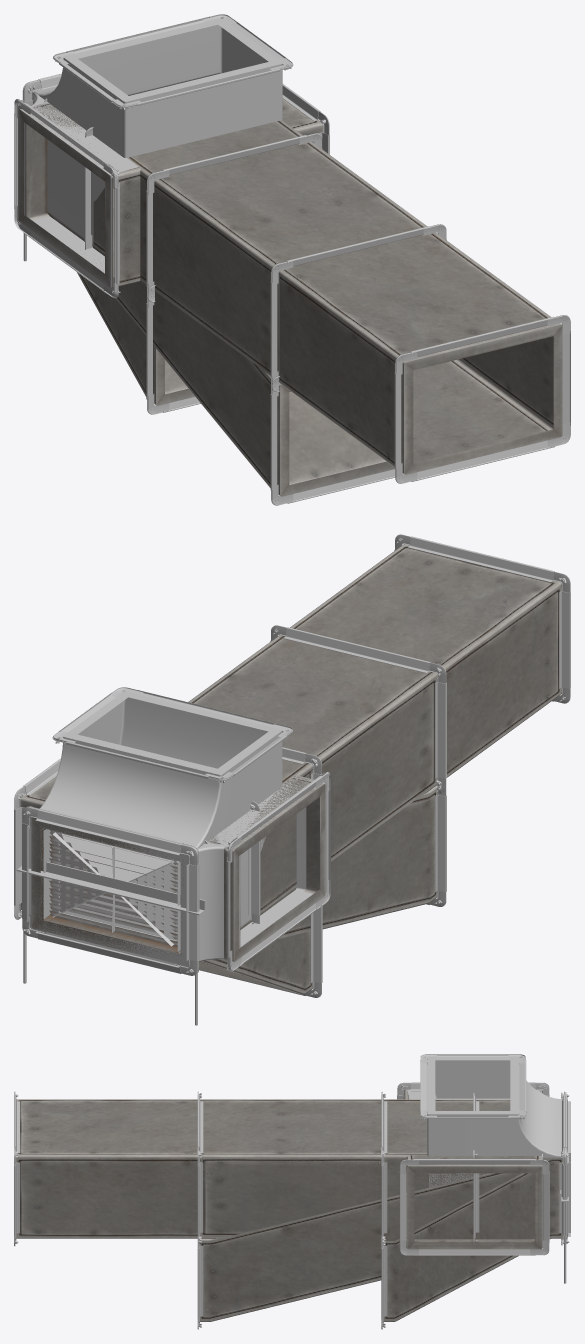
The model's file is modular_airduct_rectangular_01.fbx.
3 views of the same model, one above another, from view 1: azimuth 30°, elevation 25°; view 2: azimuth 150°, elevation 25°; view 3: azimuth 270°, elevation 25° (orthographic). The views are drawn at different scales.
Parts seen in each view (by area): view 1: modular_airduct_rectangular_01_96, modular_airduct_rectangular_01_transition_double1, modular_airduct_rectangular_01_corner1, modular_airduct_rectangular_01_64, modular_airduct_rectangular_01_splitter, modular_airduct_rectangular_01_corner2, modular_airduct_rectangular_01_bend1, modular_airduct_rectangular_01_transition_single, modular_airduct_rectangular_01_bend2, modular_airduct_rectangular_01_16, modular_airduct_rectangular_01_32; view 2: modular_airduct_rectangular_01_96, modular_airduct_rectangular_01_bend1, modular_airduct_rectangular_01_64, modular_airduct_rectangular_01_transition_double1, modular_airduct_rectangular_01_splitter, modular_airduct_rectangular_01_bend2, modular_airduct_rectangular_01_vent2, modular_airduct_rectangular_01_corner1, modular_airduct_rectangular_01_fastener, modular_airduct_rectangular_01_32, modular_airduct_rectangular_01_vent1, modular_airduct_rectangular_01_transition_single (+4 smaller); view 3: modular_airduct_rectangular_01_96, modular_airduct_rectangular_01_transition_double1, modular_airduct_rectangular_01_64, modular_airduct_rectangular_01_transition_single, modular_airduct_rectangular_01_corner1, modular_airduct_rectangular_01_splitter, modular_airduct_rectangular_01_bend1, modular_airduct_rectangular_01_16, modular_airduct_rectangular_01_32, modular_airduct_rectangular_01_fastener, modular_airduct_rectangular_01_bend2, modular_airduct_rectangular_01_corner2.
Part boxes in pixels (x1=…): modular_airduct_rectangular_01_96: x1=24, y1=74, x2=570, y2=483; modular_airduct_rectangular_01_transition_double1: x1=47, y1=212, x2=403, y2=505; modular_airduct_rectangular_01_corner1: x1=29, y1=14, x2=293, y2=231; modular_airduct_rectangular_01_64: x1=28, y1=90, x2=446, y2=391; modular_airduct_rectangular_01_splitter: x1=14, y1=84, x2=329, y2=302; modular_airduct_rectangular_01_corner2: x1=16, y1=85, x2=140, y2=298; modular_airduct_rectangular_01_bend1: x1=29, y1=14, x2=293, y2=201; modular_airduct_rectangular_01_transition_single: x1=48, y1=213, x2=200, y2=414; modular_airduct_rectangular_01_bend2: x1=15, y1=87, x2=138, y2=297; modular_airduct_rectangular_01_16: x1=24, y1=75, x2=93, y2=249; modular_airduct_rectangular_01_32: x1=24, y1=82, x2=322, y2=300; modular_airduct_rectangular_01_96: x1=31, y1=534, x2=570, y2=959; modular_airduct_rectangular_01_bend1: x1=30, y1=697, x2=292, y2=972; modular_airduct_rectangular_01_64: x1=28, y1=625, x2=446, y2=966; modular_airduct_rectangular_01_transition_double1: x1=240, y1=780, x2=446, y2=938; modular_airduct_rectangular_01_splitter: x1=14, y1=747, x2=329, y2=971; modular_airduct_rectangular_01_bend2: x1=27, y1=772, x2=330, y2=970; modular_airduct_rectangular_01_vent2: x1=43, y1=828, x2=180, y2=952; modular_airduct_rectangular_01_corner1: x1=29, y1=687, x2=292, y2=962; modular_airduct_rectangular_01_fastener: x1=22, y1=807, x2=199, y2=975; modular_airduct_rectangular_01_32: x1=26, y1=748, x2=322, y2=969; modular_airduct_rectangular_01_vent1: x1=40, y1=828, x2=180, y2=953; modular_airduct_rectangular_01_transition_single: x1=32, y1=819, x2=322, y2=997; modular_airduct_rectangular_01_96: x1=14, y1=1091, x2=564, y2=1246; modular_airduct_rectangular_01_transition_double1: x1=197, y1=1158, x2=550, y2=1329; modular_airduct_rectangular_01_64: x1=197, y1=1091, x2=563, y2=1243; modular_airduct_rectangular_01_transition_single: x1=381, y1=1154, x2=563, y2=1329; modular_airduct_rectangular_01_corner1: x1=420, y1=1054, x2=562, y2=1242; modular_airduct_rectangular_01_splitter: x1=381, y1=1082, x2=563, y2=1255; modular_airduct_rectangular_01_bend1: x1=420, y1=1054, x2=563, y2=1241; modular_airduct_rectangular_01_16: x1=473, y1=1092, x2=563, y2=1242; modular_airduct_rectangular_01_32: x1=381, y1=1091, x2=563, y2=1245; modular_airduct_rectangular_01_fastener: x1=561, y1=1092, x2=570, y2=1244; modular_airduct_rectangular_01_bend2: x1=398, y1=1082, x2=564, y2=1245; modular_airduct_rectangular_01_corner2: x1=397, y1=1082, x2=563, y2=1244.
Size of the model in its own units: 32 by 96.98 by 41.23.
